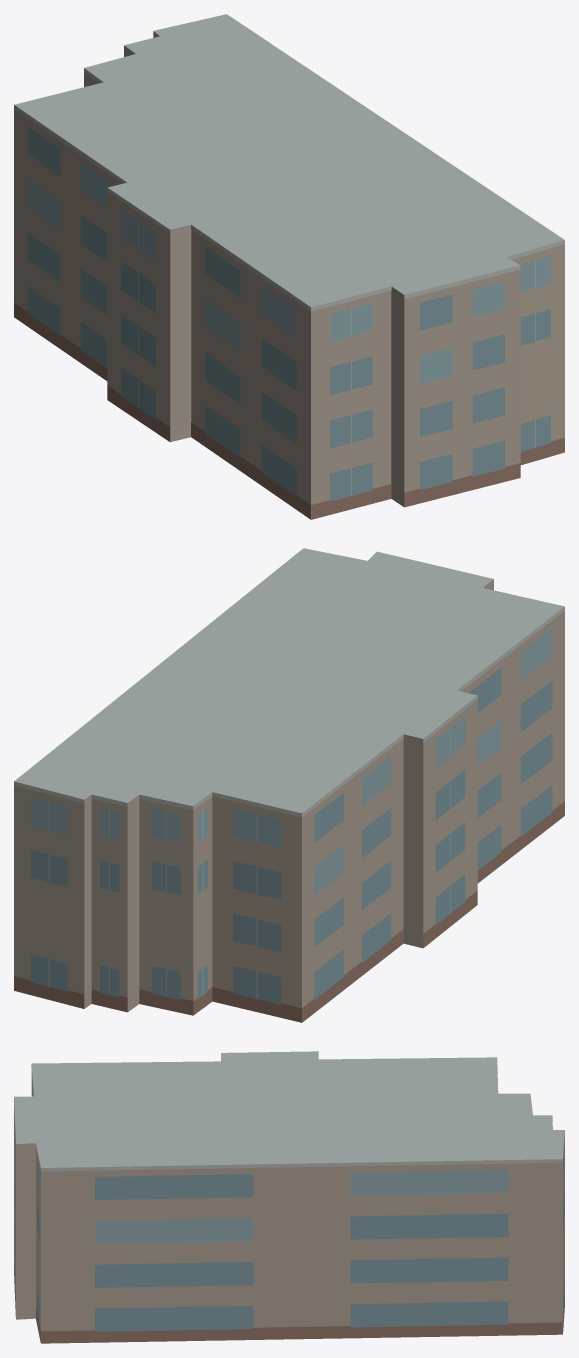
File: survey-upis-32861946.glb
The picture shows the model from 3 angles, top to bottom: view 1: azimuth 30°, elevation 25°; view 2: azimuth 150°, elevation 25°; view 3: azimuth 270°, elevation 25°; orthographic projection. The views are drawn at different scales.
Parts seen in each view (by area): view 1: survey-upis-32861946.tmp; view 2: survey-upis-32861946.tmp; view 3: survey-upis-32861946.tmp.
Part boxes in pixels (x1,y1,x2,y2): survey-upis-32861946.tmp: [14, 14, 564, 519]; survey-upis-32861946.tmp: [14, 548, 564, 1022]; survey-upis-32861946.tmp: [14, 1051, 564, 1343].
Size of the model in its own units: 17.41 by 12.2 by 34.71.
